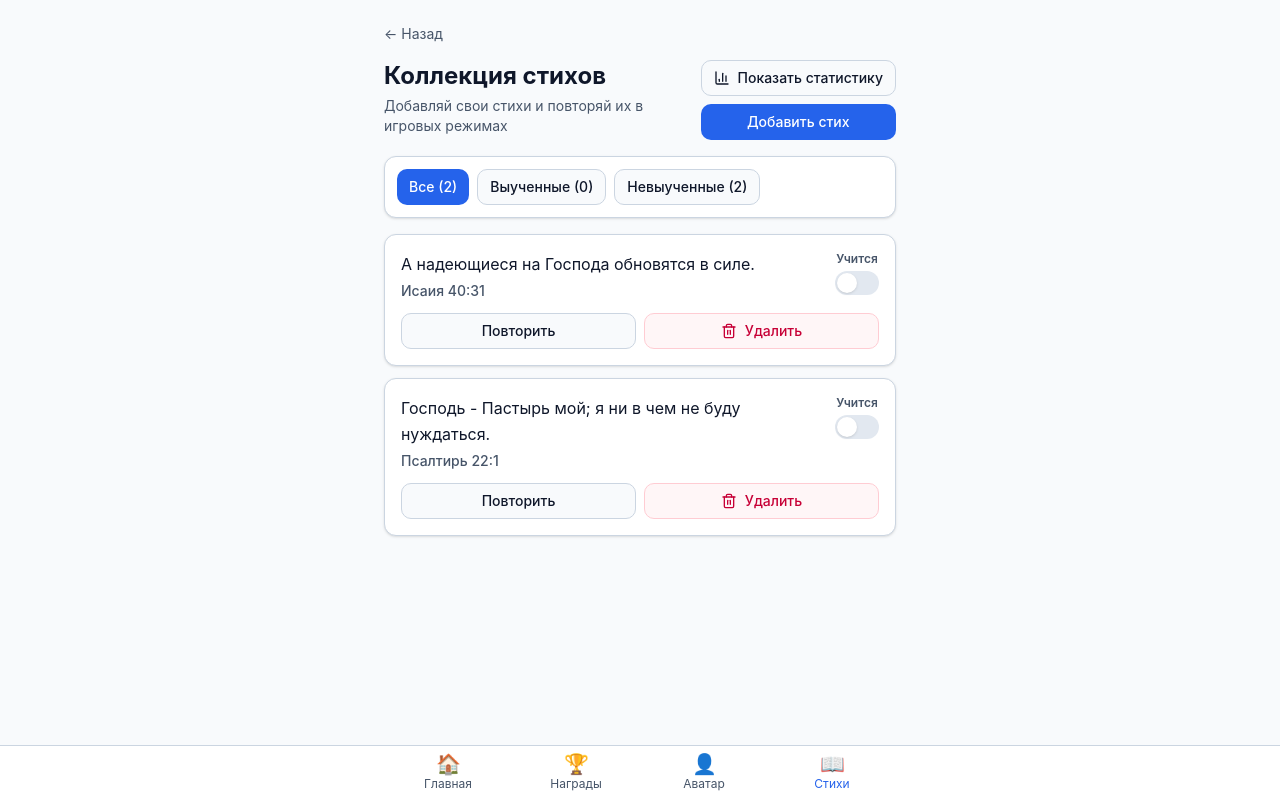
CollectionPage (integration) › shows practice statistics summary and per-verse stats
expect the heading "Коллекция стихов" is shown: met, box [384,61,606,90]
expect the text "Статистика практики" is not shown: met
Click the button "Показать статистику" at (798, 78), box [700,60,896,96]
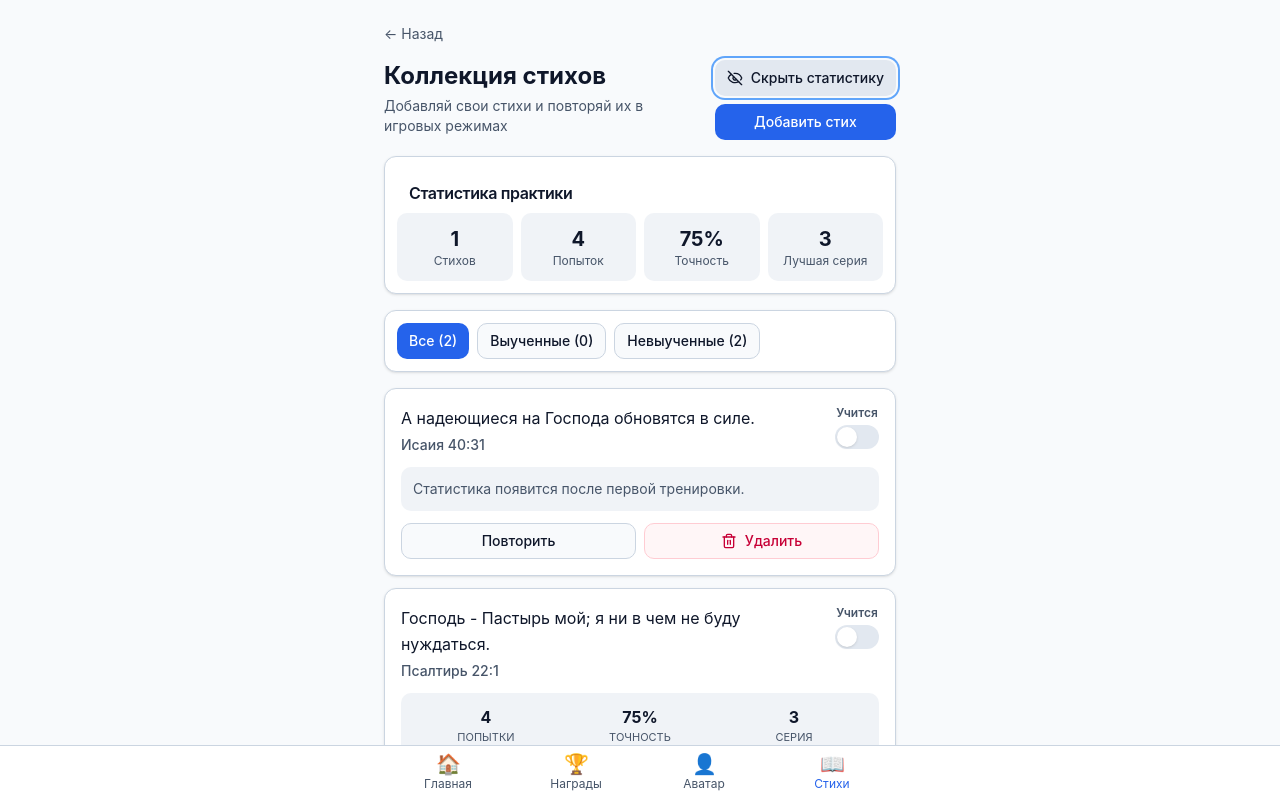
expect the text "Статистика практики" is shown: met, box [409,183,572,203]
expect the text "Стихов" is shown: met, box [434,253,476,268]
Click the button "Скрыть статистику" at (805, 78), box [715,60,896,96]
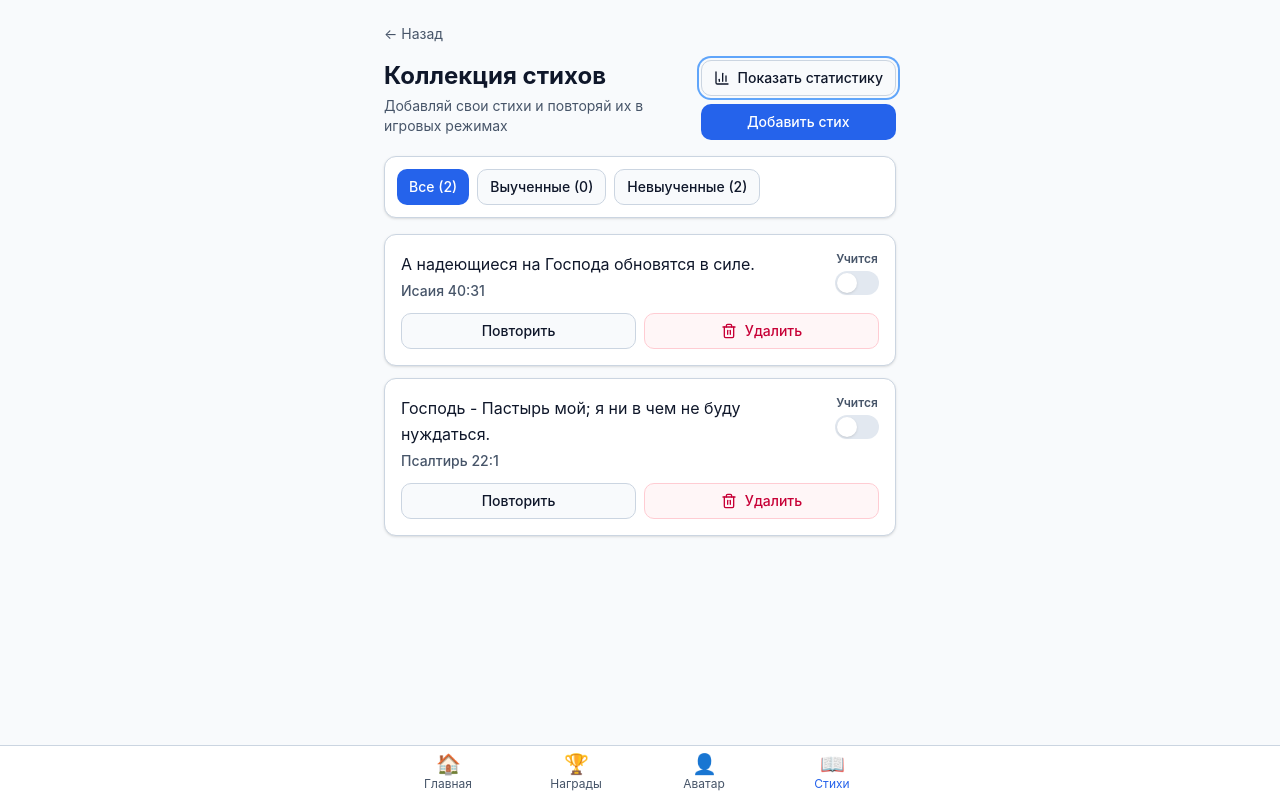
expect the text "Статистика практики" is gone: met
